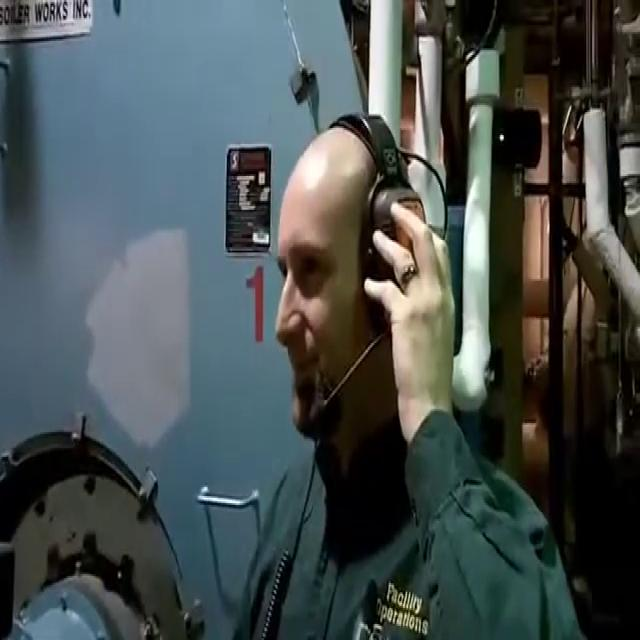earmuff: (360, 162, 438, 338)
